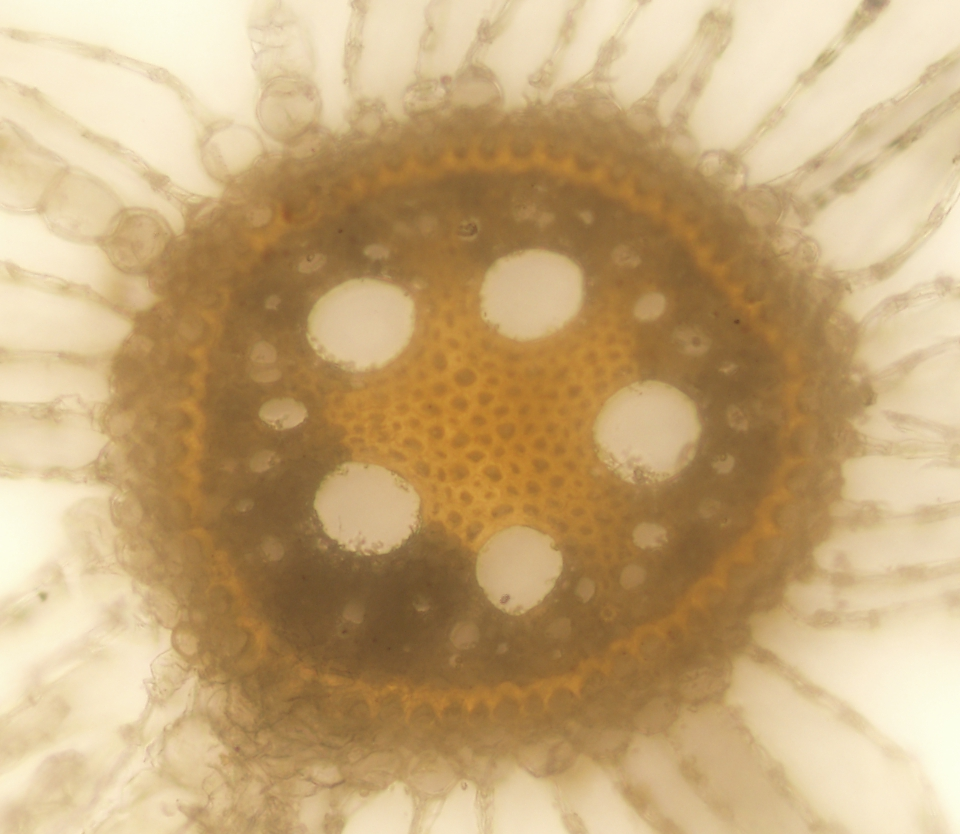lm: (590, 378, 704, 487), (313, 460, 421, 557), (304, 278, 415, 370), (479, 247, 585, 343), (477, 525, 563, 616)
